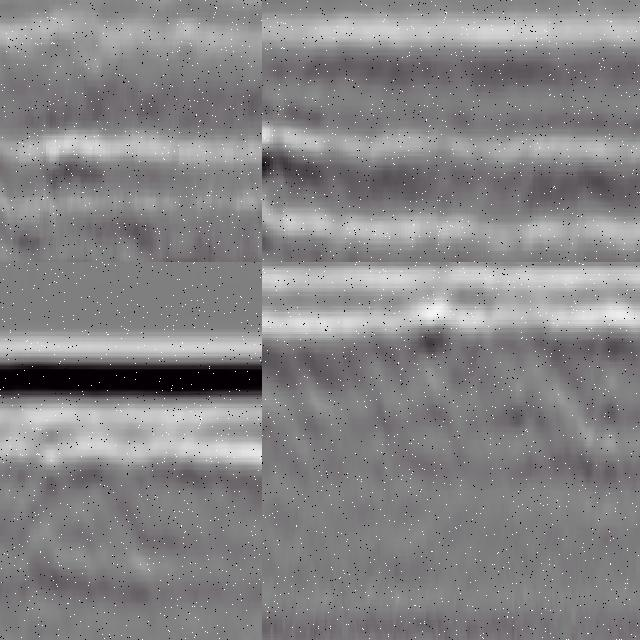loose: (409, 319, 640, 489)
